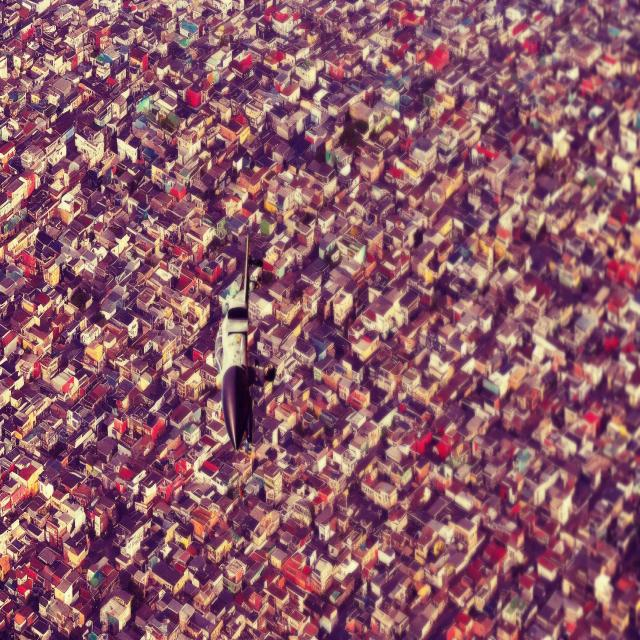airplane: (210, 230, 276, 453)
